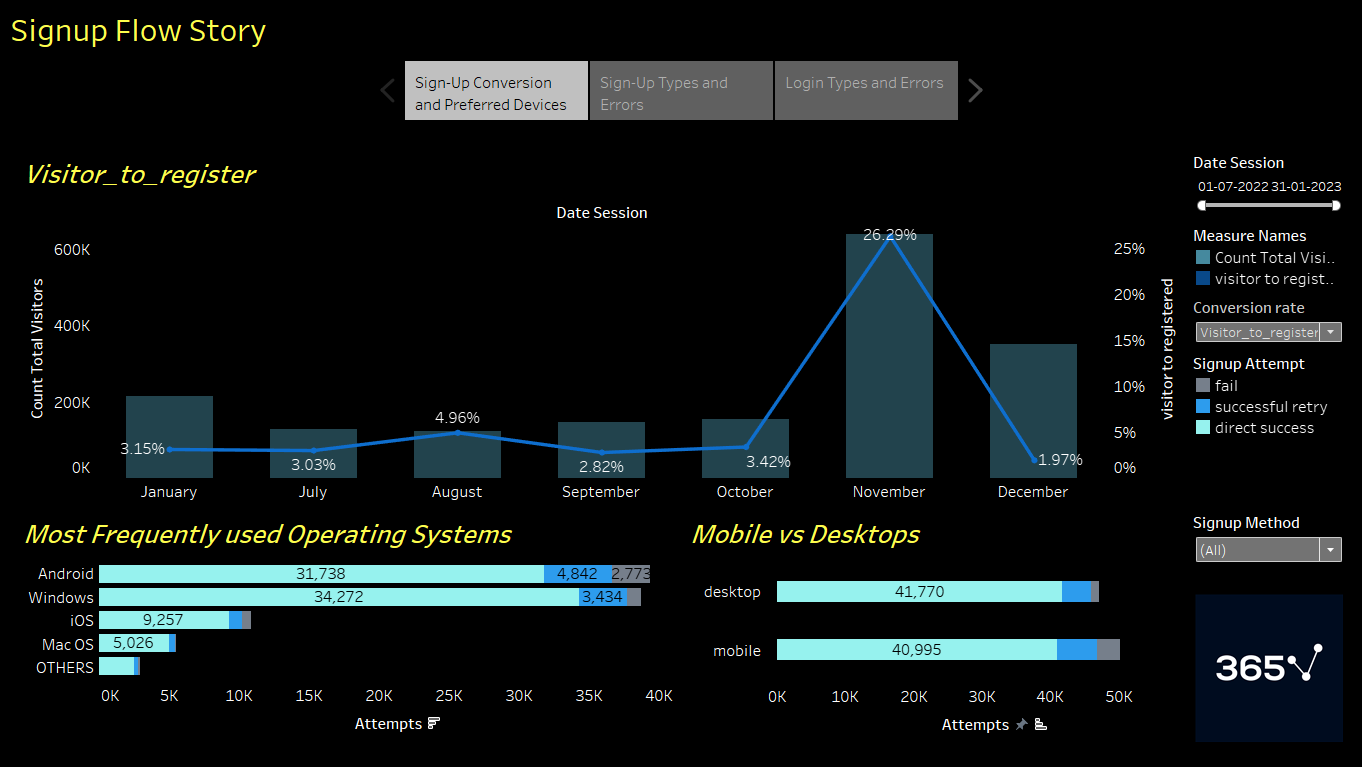

This screenshot's page, from the dashboard's own definition file:
{"tool":"tableau","page":{"name":"Dashboard 1","canvas":[1350,614],"ordinal":0},"visuals":[{"type":"worksheet","title":"Visitor_to_register","mark":"Bar","rows":["count_total_visitors","Calculation_495395959866961920"],"cols":["date_session"],"box":[8,8,1173.9,359]},{"type":"filter","title":"Visitor_to_register","param":"[federated.0j0oegx0yf1gq21dzgaig18uxtd2].[none:date_session:qk]","box":[1181.9,8,160,73]},{"type":"legend","title":"Visitor_to_register","param":"[federated.0j0oegx0yf1gq21dzgaig18uxtd2].[:Measure Names]","box":[1181.9,81,160,72]},{"type":"parameter","param":"[Parameters].[Parameter 1]","box":[1181.9,153,160,56]},{"type":"legend","title":"OS","param":"[federated.1qsjbwr0db1gss15xbih71pdf0zh].[none:signup_attempt:nk]","box":[1181.9,209,160,114]},{"type":"worksheet","title":"Visitor_to_free","mark":"Bar","rows":["count_total_visitors","Calculation_495395959867277313"],"cols":["date_session"],"box":[8,367,1173.9,1]},{"type":"worksheet","title":"OS","mark":"Automatic","cols":["Calculation_495395959871774722"],"box":[8,368,667,238]},{"type":"worksheet","title":"devices","mark":"Automatic","rows":["device"],"cols":["Calculation_495395959871774722"],"box":[675,368,507,238]},{"type":"filter","title":"devices","param":"[federated.1qsjbwr0db1gss15xbih71pdf0zh].[none:signup_method:nk]","box":[1182,368,160,82]},{"type":"image","param":"C:/Users/singh/Downloads/sql+tableau.twb Files/Image/0x0.png","box":[1182,450,160,156]}]}

Visuals, with their boxes on the page's 1350x614 design canvas (x1, y1, x2, y2). These are canvas units, not pixel positions in the 1362x767 screenshot, which may show the page scaled, cropped or inside an application window:
"Visitor_to_register" worksheet (Bar marks): (x1=8, y1=8, x2=1182, y2=367)
"Visitor_to_register" filter: (x1=1182, y1=8, x2=1342, y2=81)
"Visitor_to_register" legend: (x1=1182, y1=81, x2=1342, y2=153)
parameter: (x1=1182, y1=153, x2=1342, y2=209)
"OS" legend: (x1=1182, y1=209, x2=1342, y2=323)
"Visitor_to_free" worksheet (Bar marks): (x1=8, y1=367, x2=1182, y2=368)
"OS" worksheet: (x1=8, y1=368, x2=675, y2=606)
"devices" worksheet: (x1=675, y1=368, x2=1182, y2=606)
"devices" filter: (x1=1182, y1=368, x2=1342, y2=450)
image: (x1=1182, y1=450, x2=1342, y2=606)
